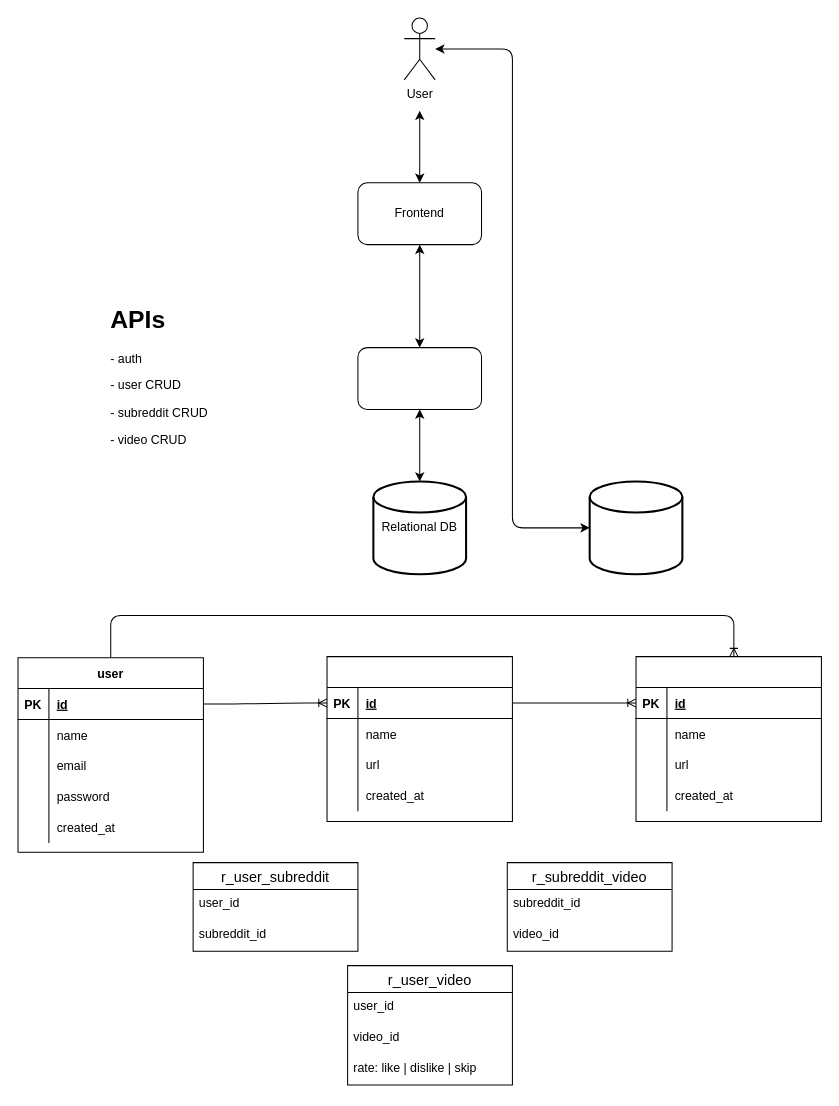
This 839x1106 diagram has some shape labels left out. The box of each missing label's shape, as (x1, y1, x2, y2) in pixels:
Backend: (357, 347, 482, 409)
Object storage: (588, 480, 683, 575)
subreddit: (326, 656, 512, 821)
video: (635, 656, 821, 821)
